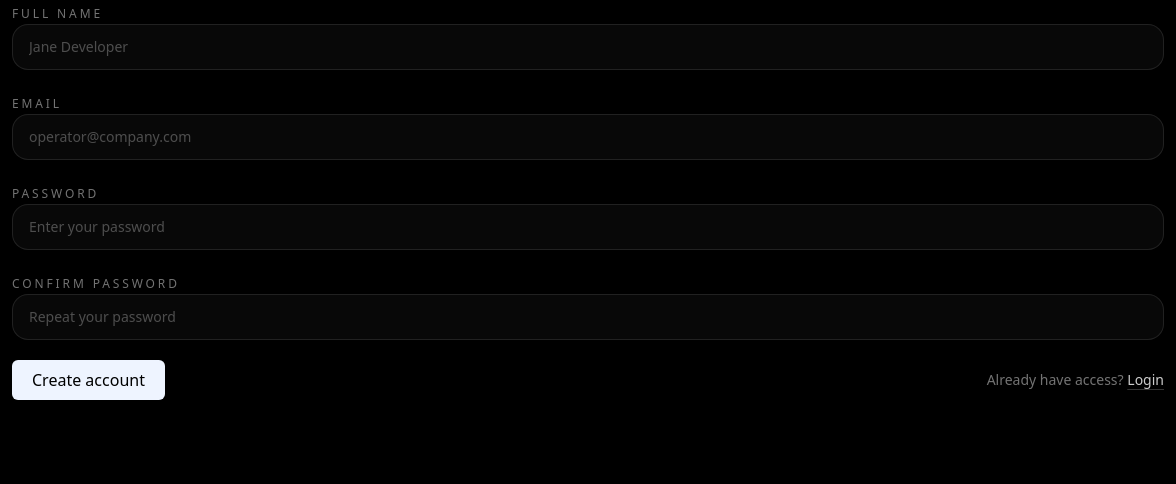
Test: AuthFormCard › blocks register submission when passwords do not match
In the field labelled "Full name": (588, 47) x1=12 y1=24 x2=1164 y2=70, type "Operator"
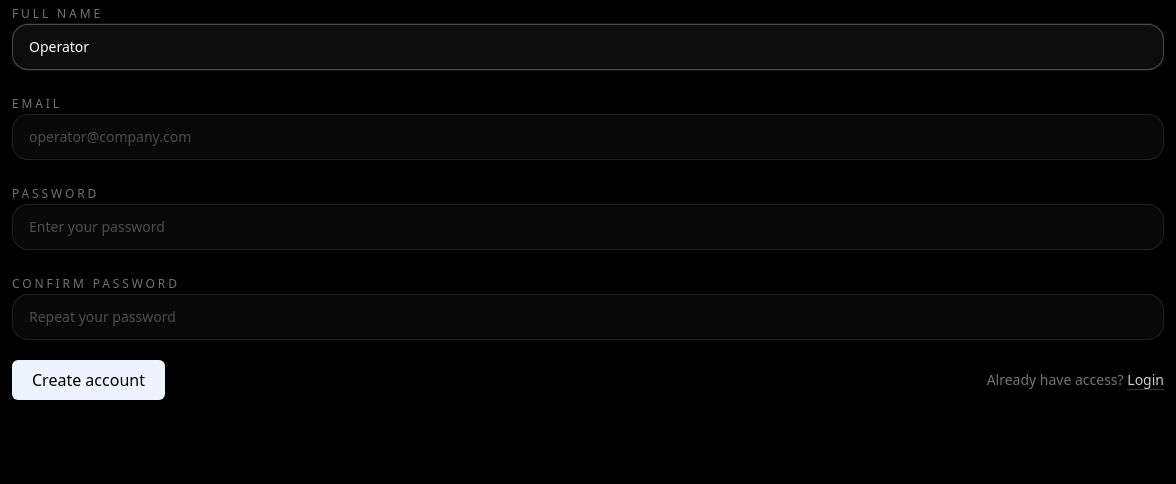
In the field labelled "Email": (588, 137) x1=12 y1=114 x2=1164 y2=160, type "operator@example.com"
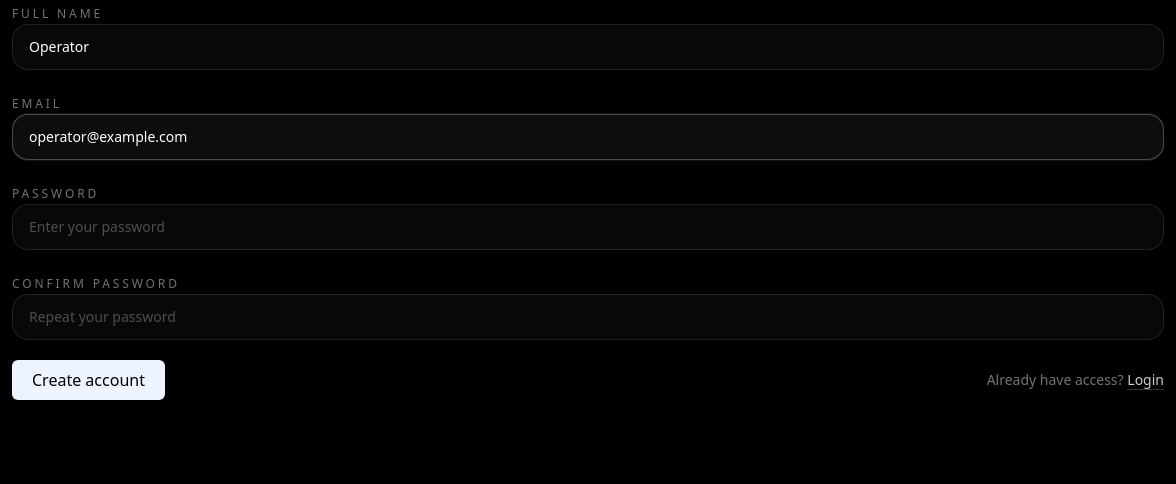
In the password field labelled "Password": (588, 227) x1=12 y1=204 x2=1164 y2=250, type "StrongPass123"
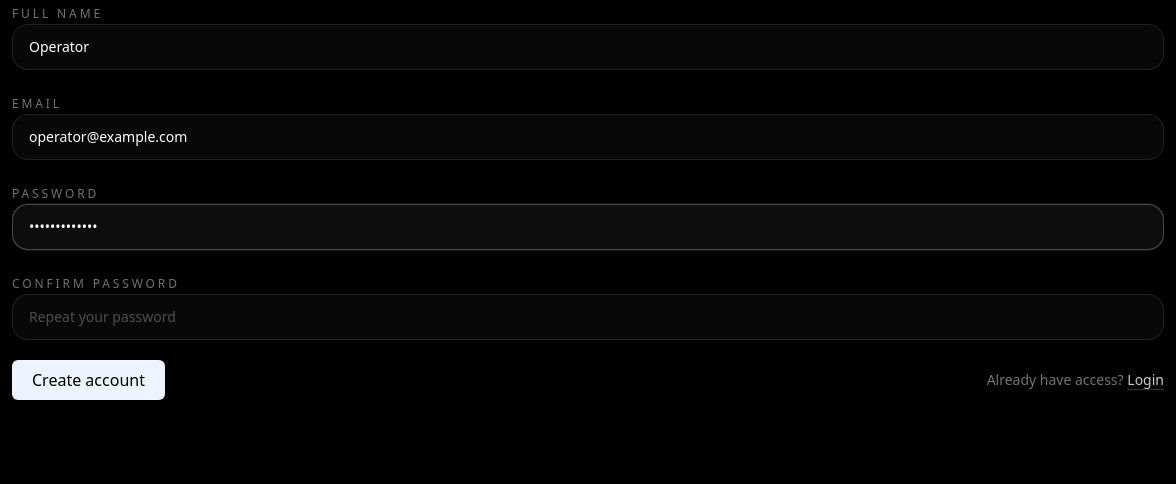
In the password field labelled "Confirm password": (588, 317) x1=12 y1=294 x2=1164 y2=340, type "StrongPass456"
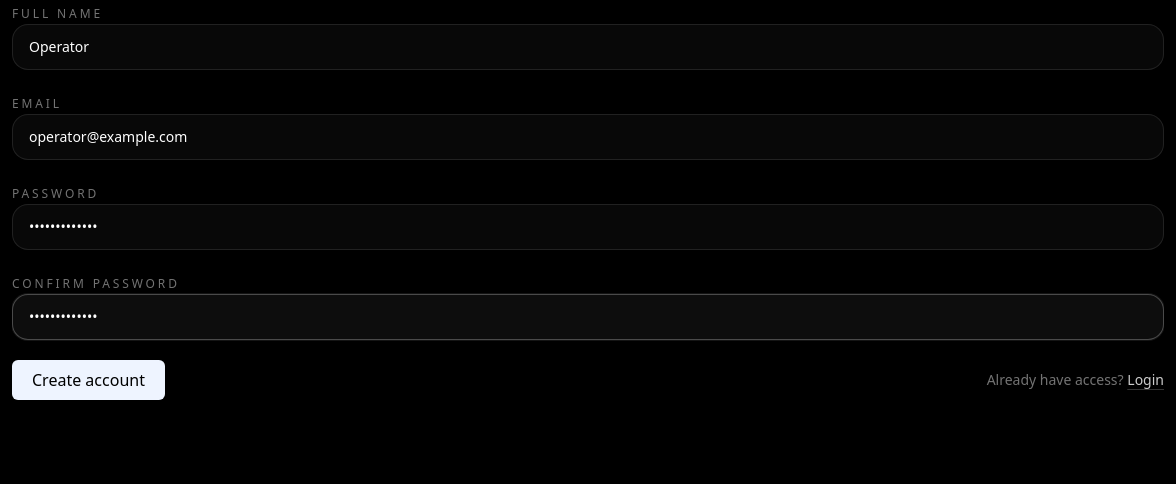
Click the button "Create account": (88, 380) x1=12 y1=360 x2=165 y2=400
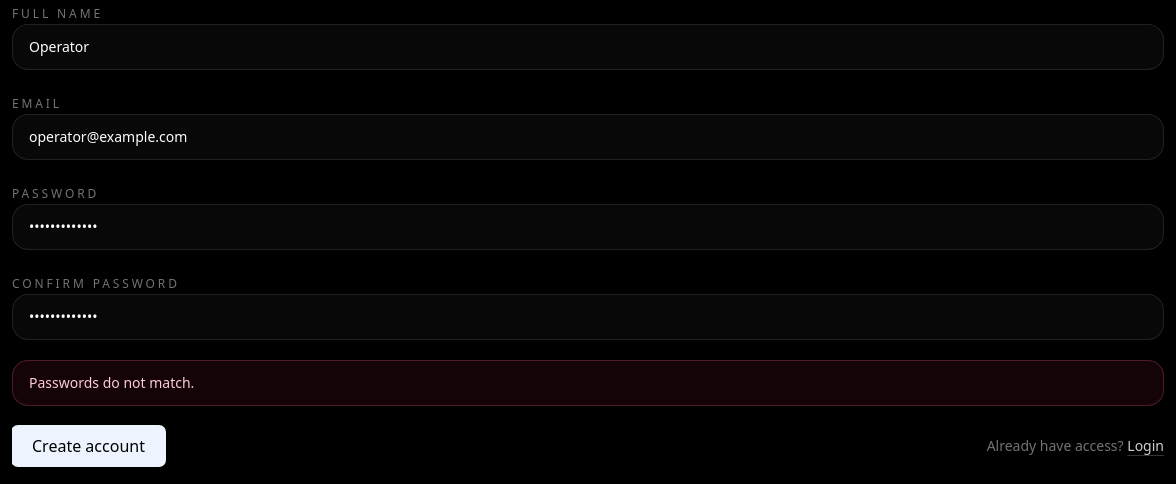
Expected: the message reads "Passwords do not match.", x1=29 y1=373 x2=194 y2=392
